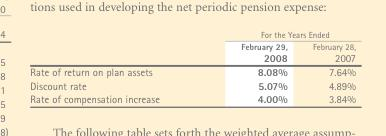table: (29, 28, 354, 105)
table column: (29, 28, 199, 105), (199, 28, 299, 105), (299, 28, 354, 105)
table column header: (29, 28, 354, 63)
table row: (29, 39, 354, 63), (29, 63, 354, 77), (29, 77, 354, 91), (29, 91, 354, 105), (29, 28, 354, 39)
table spanning cell: (199, 28, 354, 39)
